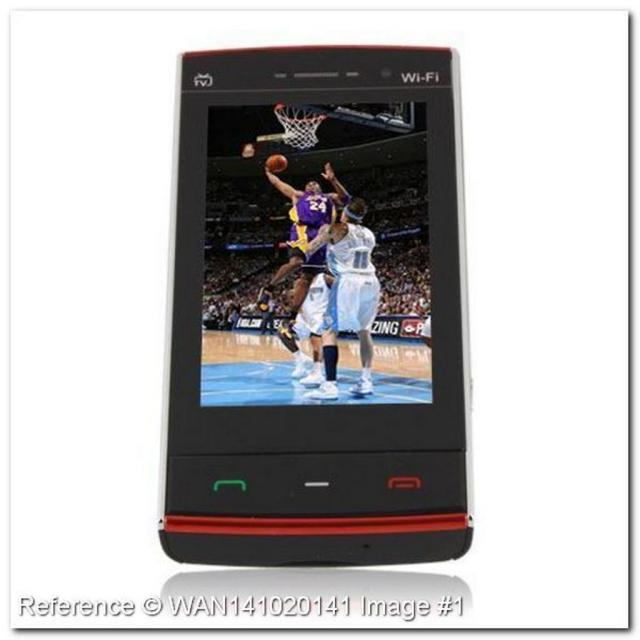nomask: (306, 181, 318, 190)
